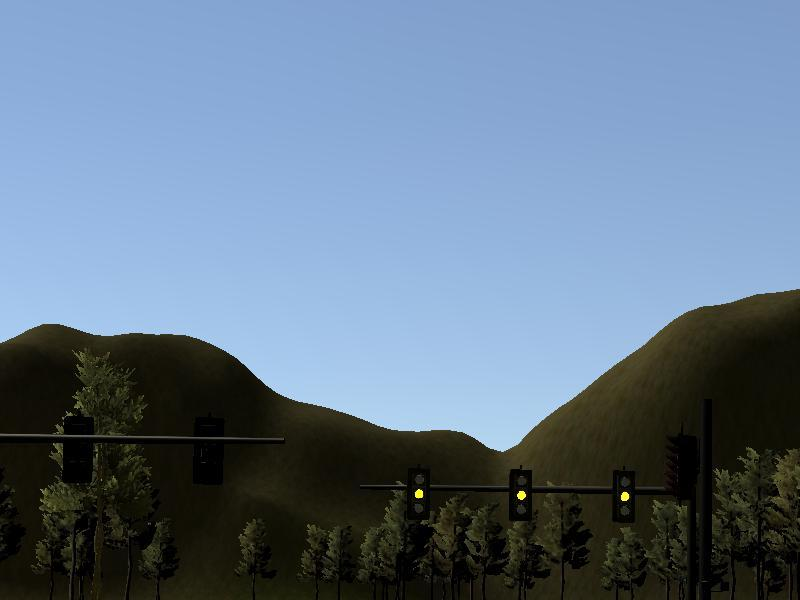Yellow: (612, 471, 636, 524), (407, 468, 430, 520), (509, 470, 532, 520)
